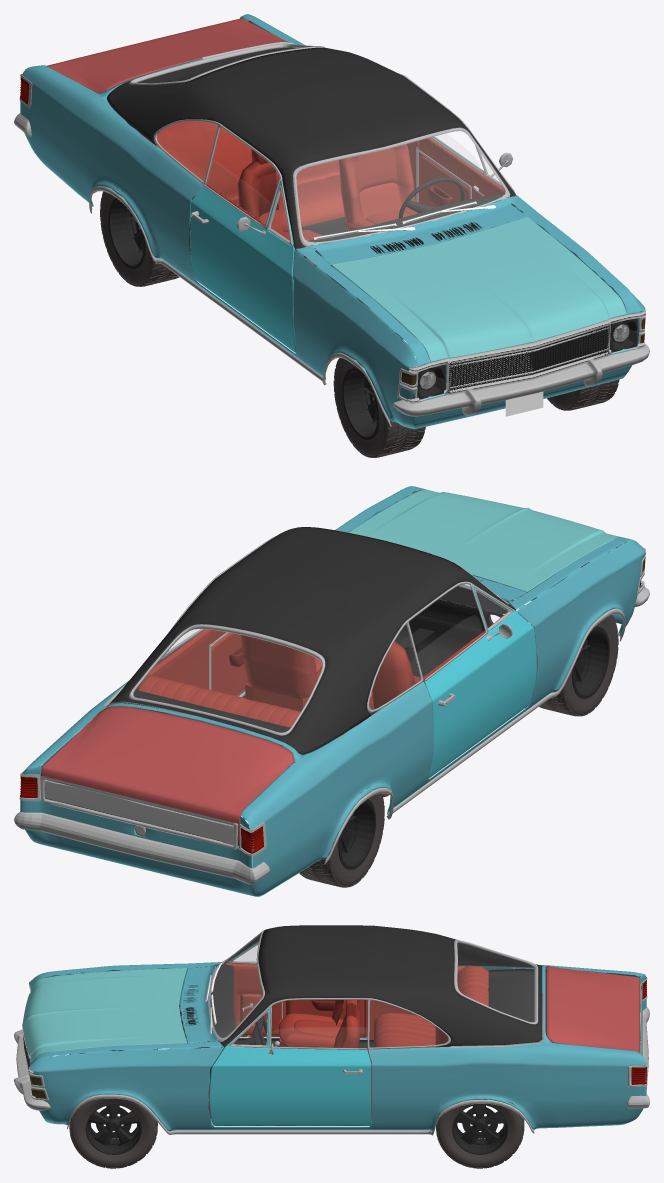
Rendered from opala.glb.
The picture shows the model from 3 angles, top to bottom: view 1: azimuth 30°, elevation 25°; view 2: azimuth 150°, elevation 25°; view 3: azimuth 270°, elevation 25°; orthographic projection. The views are drawn at different scales.
Visible parts, largest first — view 1: lataria_94, teto_65, capo_95, lataria.011_57, porta_93, Plane.009_78, porta malas_92, Plane.008_79, lataria.003_69, Plane.015_26, Plane.028_29, porta.001_91 (+16 smaller); view 2: lataria_94, teto_65, porta malas_92, capo_95, porta_93, lataria.004_68, lataria.006_66, Plane.008_79, porta.007_2, Plane.009_78, porta.002_90, Plane.035_7 (+12 smaller); view 3: lataria_94, teto_65, porta_93, capo_95, porta malas_92, lataria.011_57, Plane.009_78, porta.001_91, Plane.027_34, porta.007_2, Plane.016_23, lataria.018_32 (+17 smaller).
Part boxes in pixels (box(x1,y1,x2,y2)): lataria_94: box(20, 14, 645, 429); teto_65: box(107, 47, 515, 249); capo_95: box(331, 216, 626, 361); lataria.011_57: box(296, 127, 504, 246); porta_93: box(190, 137, 523, 352); Plane.009_78: box(138, 121, 344, 241); porta malas_92: box(46, 18, 288, 93); Plane.008_79: box(338, 144, 415, 223); lataria.003_69: box(393, 343, 649, 416); Plane.015_26: box(448, 324, 609, 392); Plane.028_29: box(407, 310, 645, 403); porta.001_91: box(207, 137, 505, 250); lataria_94: box(20, 486, 645, 896); teto_65: box(109, 527, 515, 754); porta malas_92: box(41, 706, 294, 845); capo_95: box(348, 489, 625, 592); porta_93: box(424, 585, 536, 778); lataria.004_68: box(19, 770, 266, 856); lataria.006_66: box(14, 811, 269, 884); Plane.008_79: box(241, 635, 317, 698); porta.007_2: box(133, 619, 478, 796); Plane.009_78: box(137, 675, 356, 737); porta.002_90: box(148, 629, 537, 795); Plane.035_7: box(299, 793, 384, 887); lataria_94: box(29, 962, 646, 1131); teto_65: box(216, 925, 541, 1046); porta_93: box(209, 941, 371, 1126); capo_95: box(22, 968, 187, 1061); porta malas_92: box(546, 966, 639, 1052); lataria.011_57: box(210, 934, 262, 1037); Plane.009_78: box(374, 966, 488, 1048); porta.001_91: box(223, 962, 367, 1048); Plane.027_34: box(69, 1098, 157, 1168); porta.007_2: box(210, 969, 546, 1120); Plane.016_23: box(436, 1099, 524, 1168); lataria.018_32: box(67, 1094, 534, 1135).
Size of what is drawn, in the model's own units: 2.45 by 1.88 by 6.24.
Materials: 17 (1 with a texture image).
